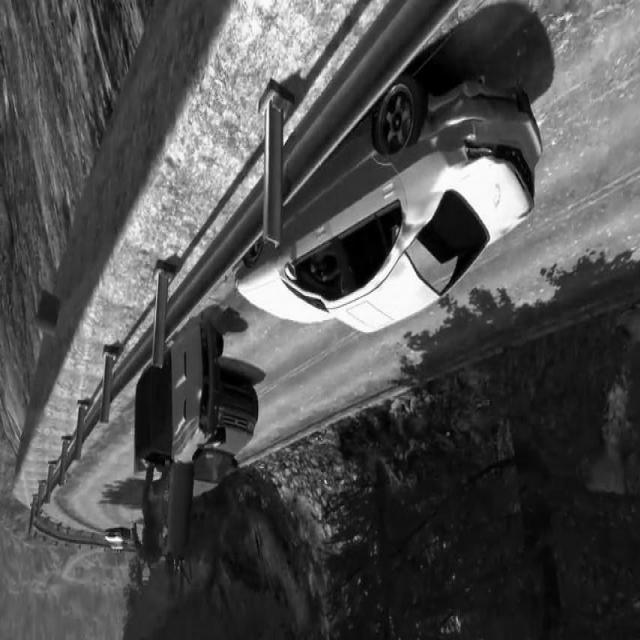severe: (130, 310, 230, 570)
